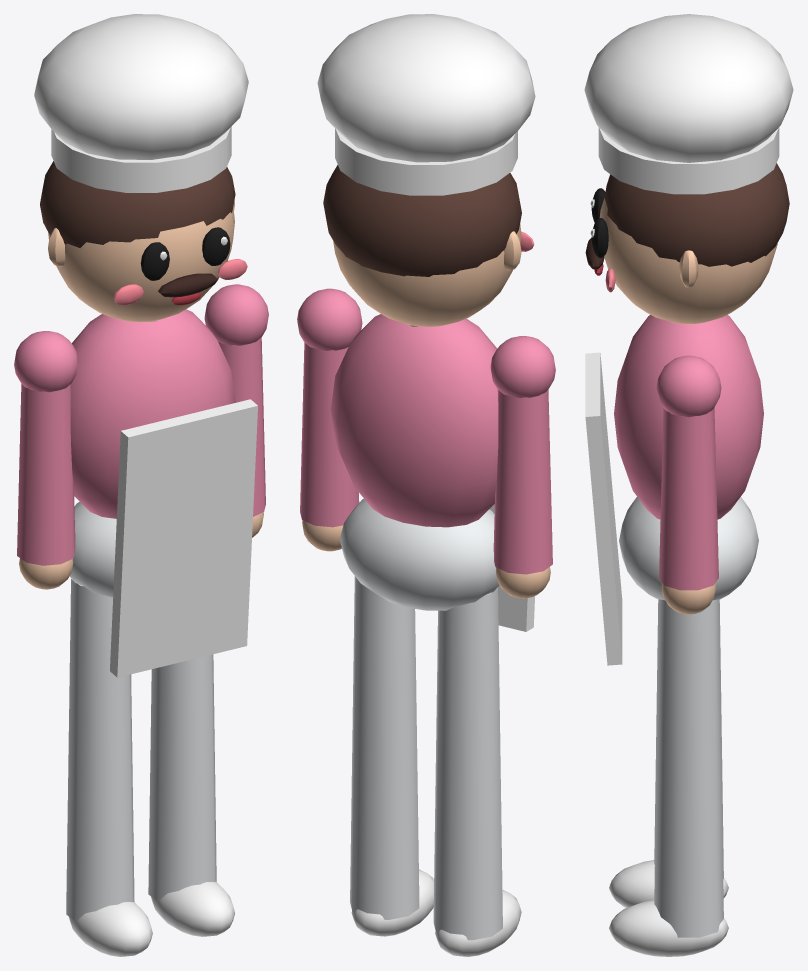
File: roadevents_vendor.glb
3 views of the same model, side by side, from view 1: azimuth 30°, elevation 25°; view 2: azimuth 150°, elevation 25°; view 3: azimuth 270°, elevation 25° (orthographic).
Visible parts, largest first — view 1: Body.005, Leg_R.005, Leg_L.005, Arm_R.005, Arm_L.005; view 2: Body.005, Leg_R.005, Leg_L.005, Arm_R.005, Arm_L.005; view 3: Body.005, Leg_L.005, Arm_L.005, Leg_R.005.
Boxes of the visible parts, left/top/right/bottom form: Body.005: left=34, top=14, right=257, bottom=677; Leg_R.005: left=66, top=578, right=152, bottom=956; Leg_L.005: left=148, top=654, right=234, bottom=936; Arm_R.005: left=14, top=331, right=78, bottom=589; Arm_L.005: left=204, top=284, right=268, bottom=537; Body.005: left=317, top=14, right=535, bottom=631; Leg_R.005: left=433, top=587, right=521, bottom=956; Leg_L.005: left=350, top=576, right=433, bottom=936; Arm_R.005: left=490, top=336, right=555, bottom=598; Arm_L.005: left=297, top=288, right=362, bottom=551; Body.005: left=584, top=14, right=793, bottom=665; Leg_L.005: left=609, top=599, right=728, bottom=956; Arm_L.005: left=656, top=355, right=721, bottom=614; Leg_R.005: left=609, top=600, right=728, bottom=907.
Bounding box in the file's own units: 0.57 × 1.99 × 0.418.
